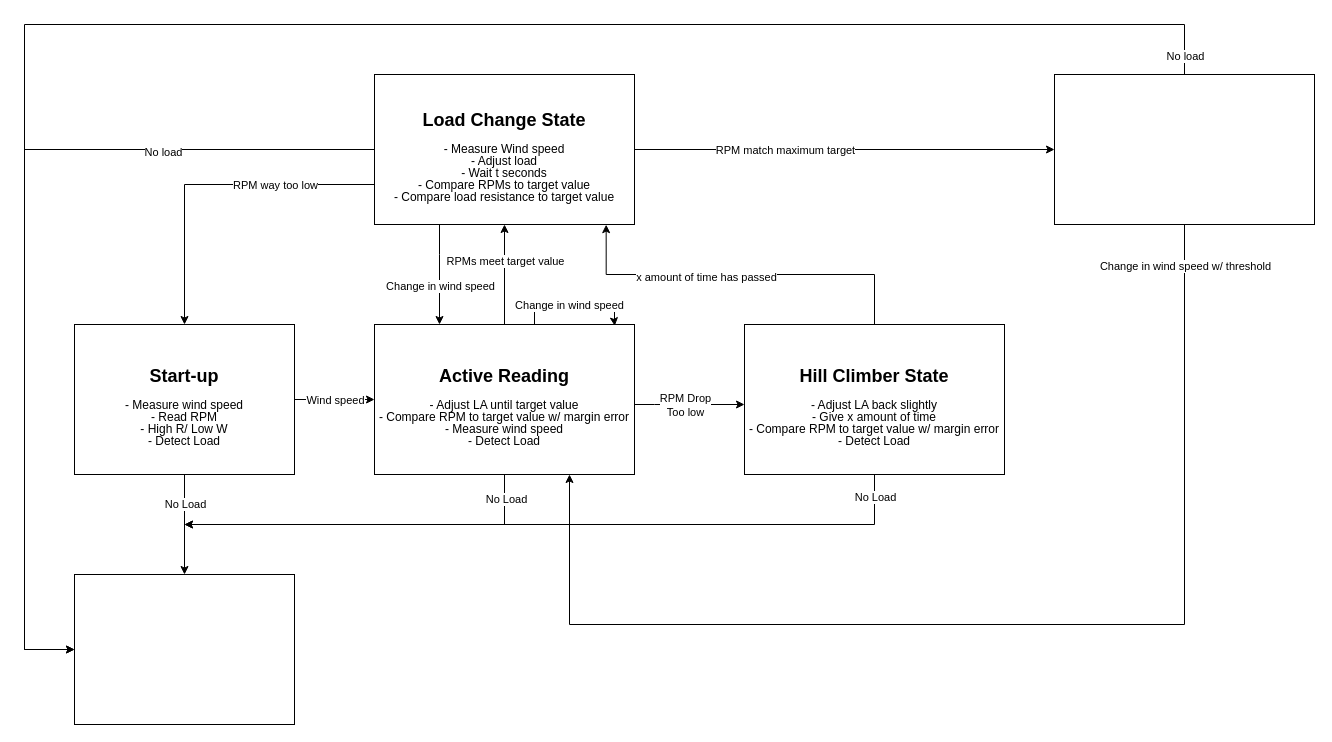
Image size: 1332x742. Some labels were removed from this diagram. Each missing label, with the box of its shape:
E-Stop - Move LA - Measure Wind speed & RPM - Detect Load: (74, 574, 294, 724)
Idle - Measure wind speed & RPM - Detect load: (1054, 74, 1314, 224)
